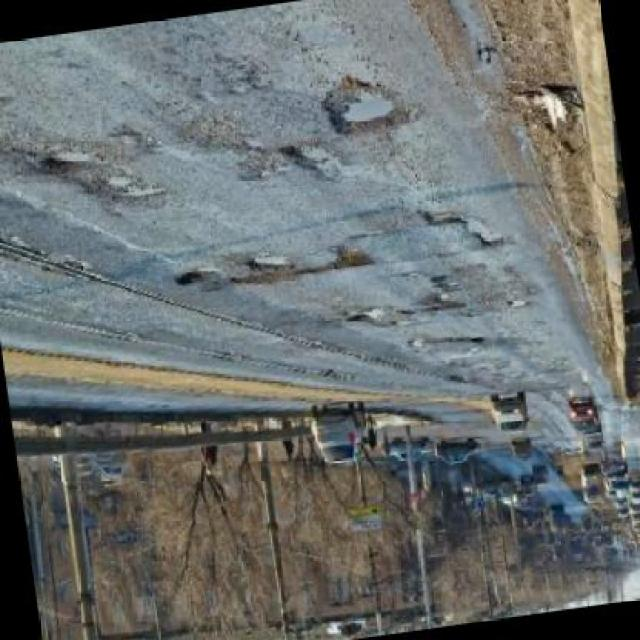pothole1: (321, 67, 416, 153), (417, 188, 515, 266), (172, 260, 232, 300), (242, 242, 300, 283), (345, 302, 406, 338)
